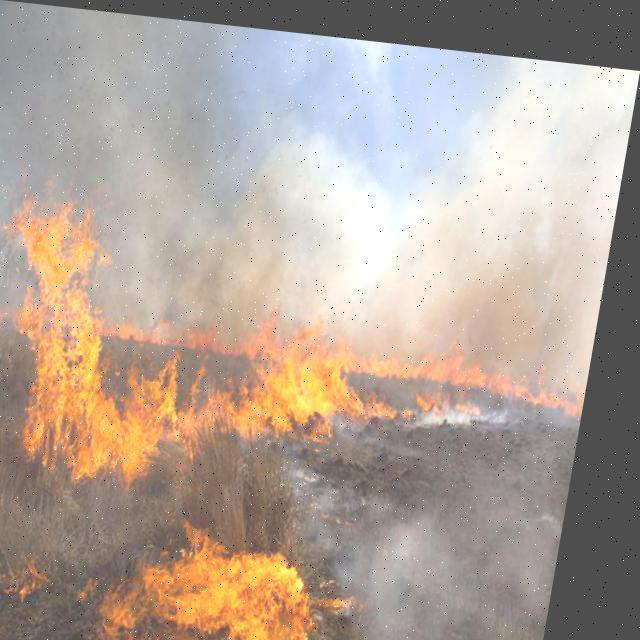Fire: (0, 187, 608, 502), (98, 506, 348, 639)
